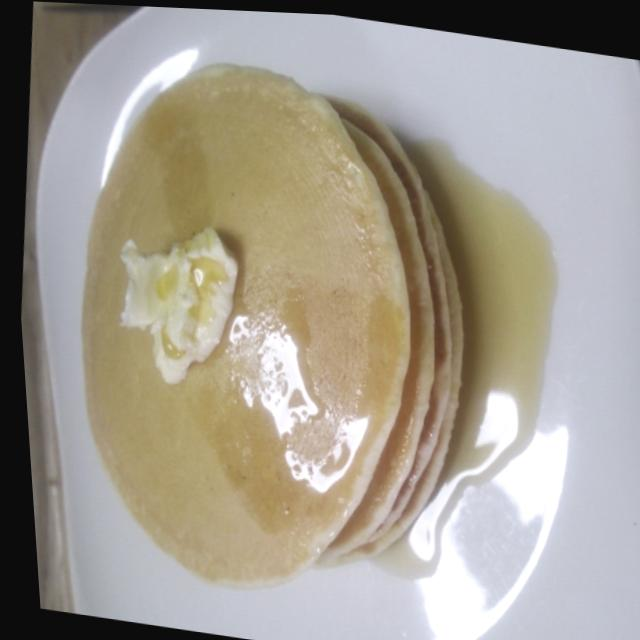蛋糕甜品: (1, 17, 583, 624)
